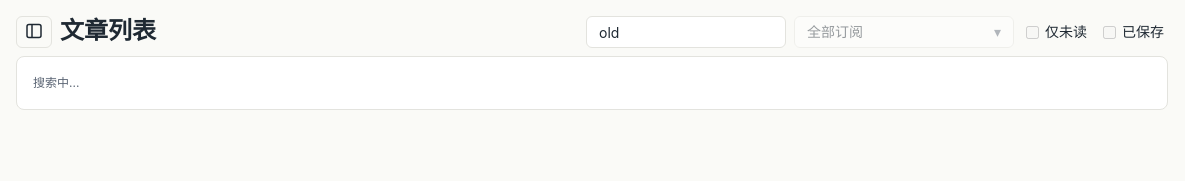
Scenario: ArticleListPage automatic pagination › discards results from a previous search after a newer query finishes
The width and height of the screenshot is (1185, 181).
Replace the text in the search field with "new" at (686, 32), box [586, 16, 786, 48]
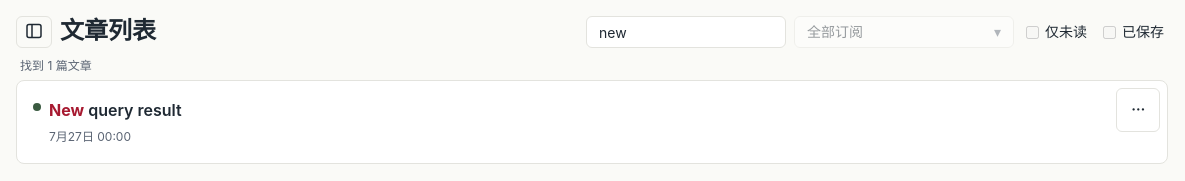
Now the element with class "article-card-title" reads "New query result", box [49, 97, 182, 123]
